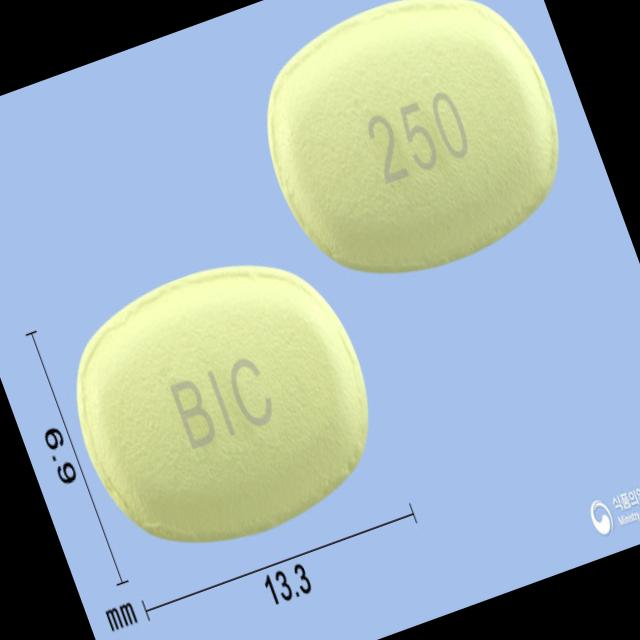Clasta: (39, 221, 407, 583), (231, 0, 593, 308)
